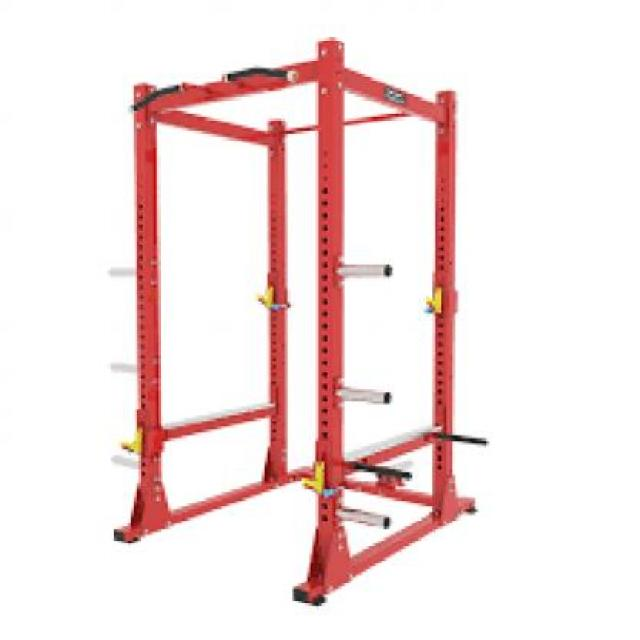smith machine: (111, 39, 489, 606)
